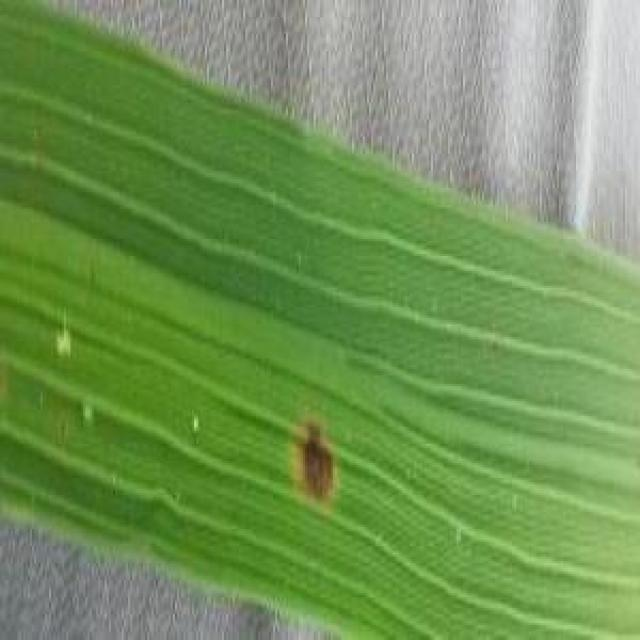brownspots: (266, 422, 354, 510)
